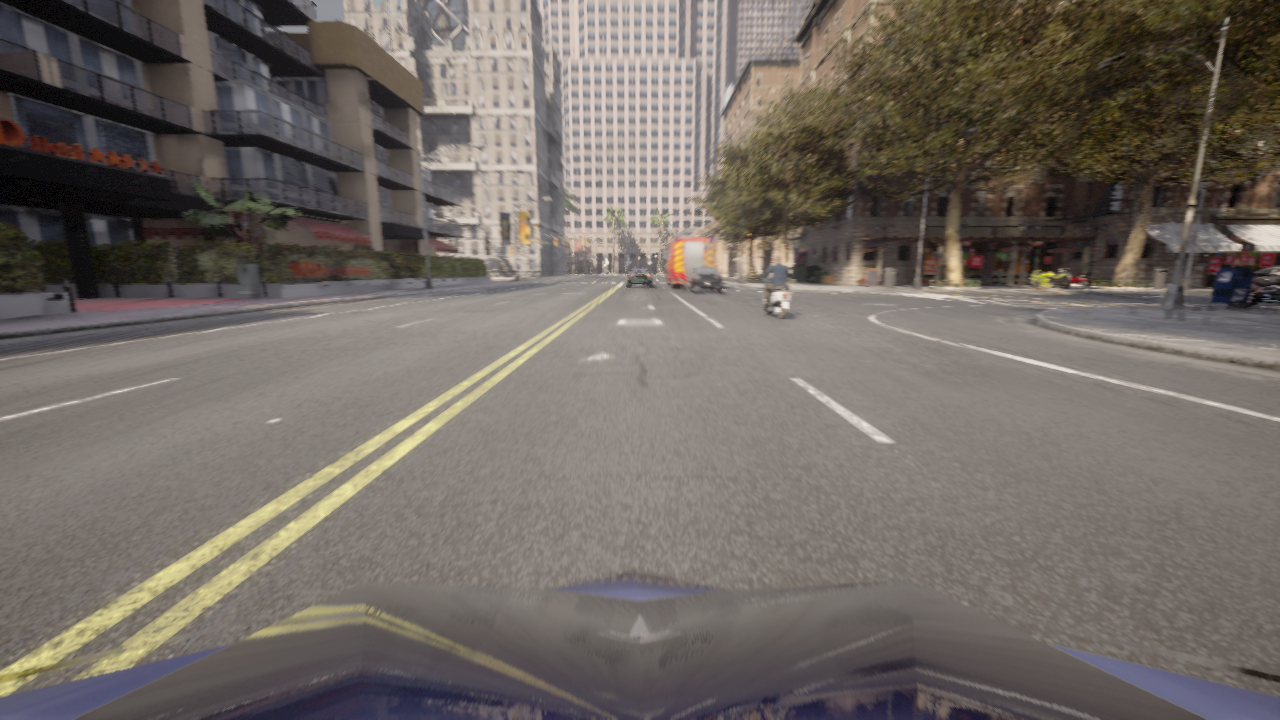cyclist: (0, 569, 1279, 719), (663, 230, 715, 288), (758, 270, 790, 319), (1230, 278, 1279, 308), (681, 267, 723, 293), (1049, 268, 1087, 289), (1028, 270, 1070, 288), (1253, 266, 1279, 288), (626, 267, 652, 287)
